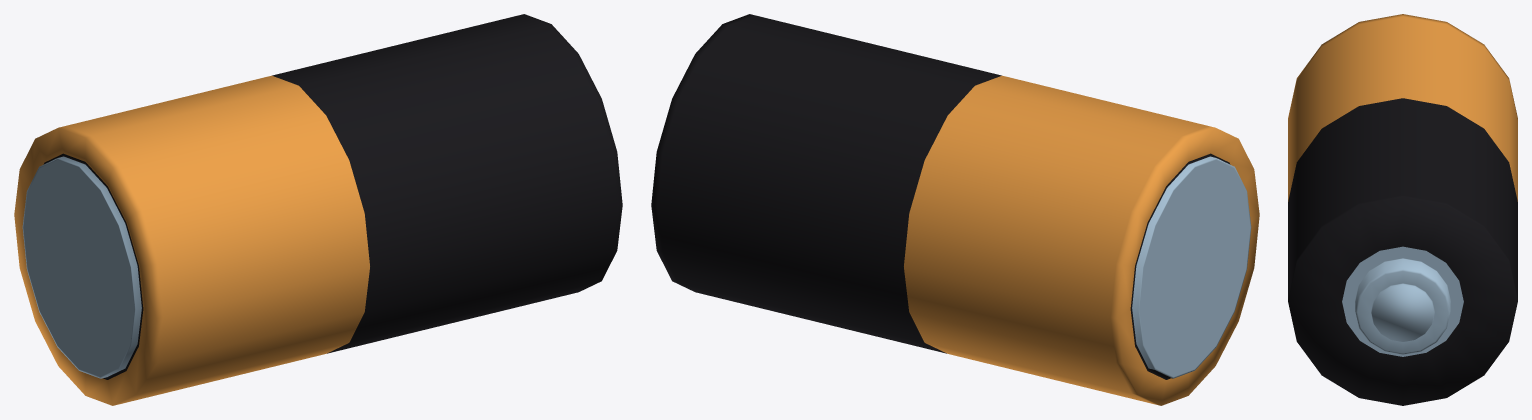
File: Battery.glb
3 views of the same model, side by side, from view 1: azimuth 30°, elevation 25°; view 2: azimuth 150°, elevation 25°; view 3: azimuth 270°, elevation 25° (orthographic). The views are drawn at different scales.
Parts seen in each view (by area): view 1: Battery; view 2: Battery; view 3: Battery.
Part boxes in pixels (x1,y1,x2,y2): Battery: (14,14,622,405); Battery: (651,14,1259,405); Battery: (1288,14,1517,405).
Bounding box in the file's own units: 0.0956 × 0.0468 × 0.0468.
